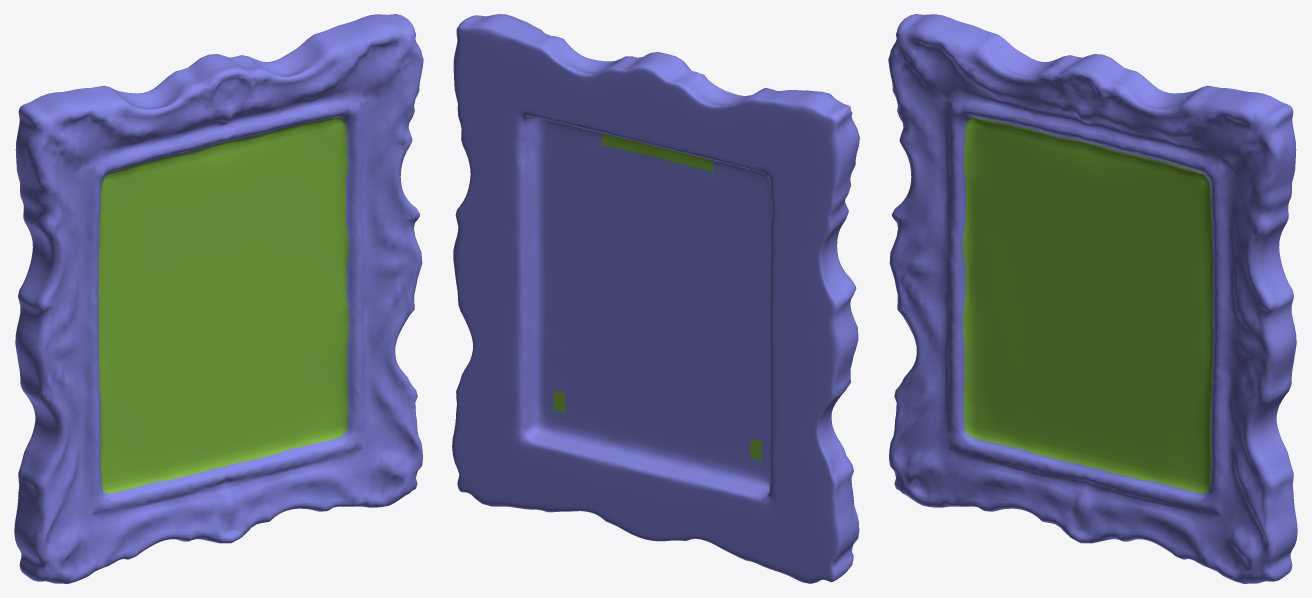
Rendered from De_Object_Cadre_low.fbx.
3 renders of one model, left to right at view 1: azimuth 30°, elevation 25°; view 2: azimuth 150°, elevation 25°; view 3: azimuth 330°, elevation 25°, orthographic.
Visible parts, largest first — view 1: cadre_hub_v1.001; view 2: cadre_hub_v1.001; view 3: cadre_hub_v1.001.
Boxes of the visible parts, left/top/right/bottom form: cadre_hub_v1.001: left=14, top=14, right=423, bottom=583; cadre_hub_v1.001: left=452, top=14, right=859, bottom=583; cadre_hub_v1.001: left=888, top=14, right=1297, bottom=583.
Size of the model in its own units: 294 by 345 by 33.58.
